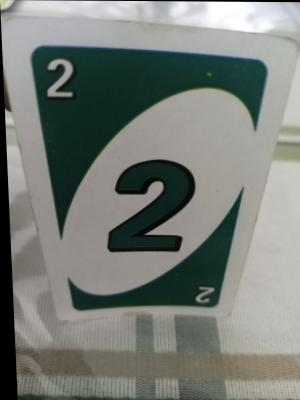green: (33, 44, 226, 311)
num_2: (41, 56, 76, 102), (188, 278, 215, 306)
